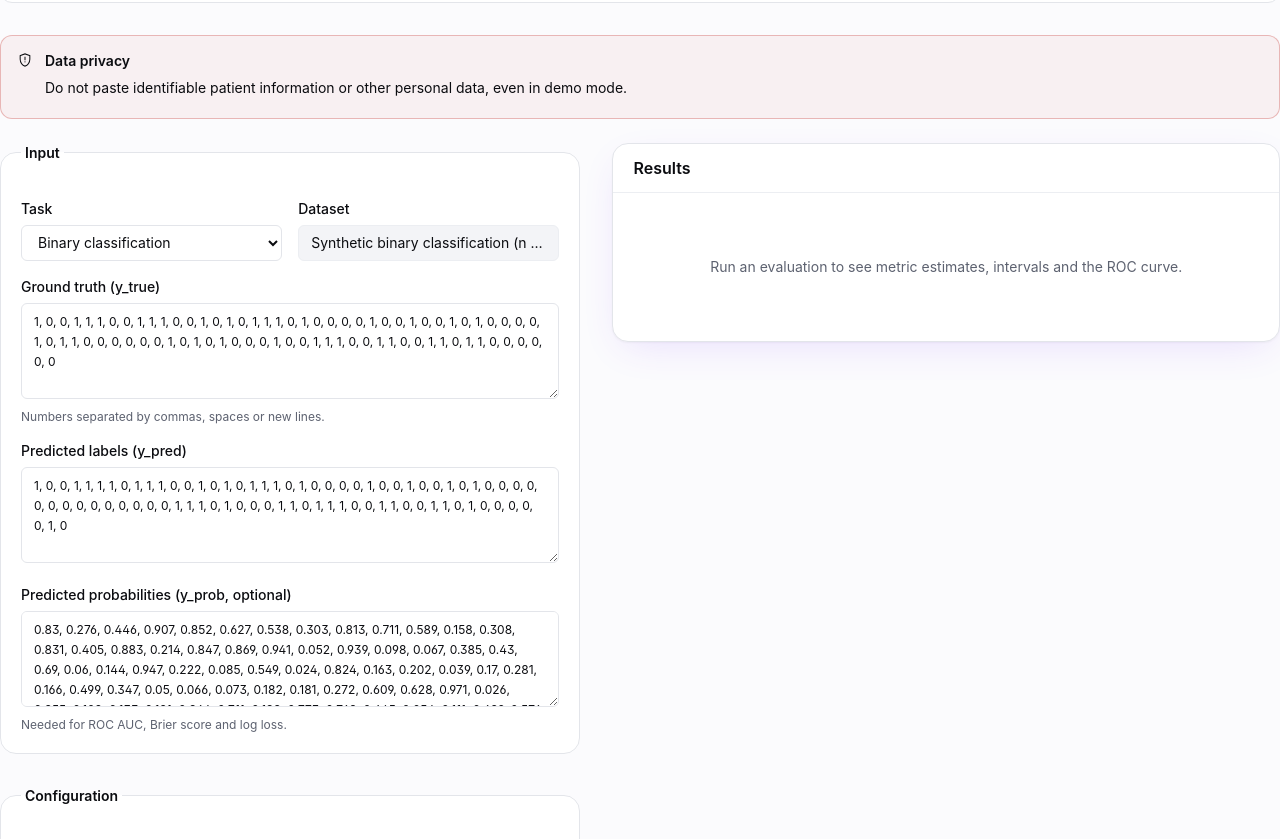
it: Playground › switches to regression metrics
Select "Regression" in the dropdown labelled "Task" at (152,242), box [21, 224, 282, 260]
(page scrolled)
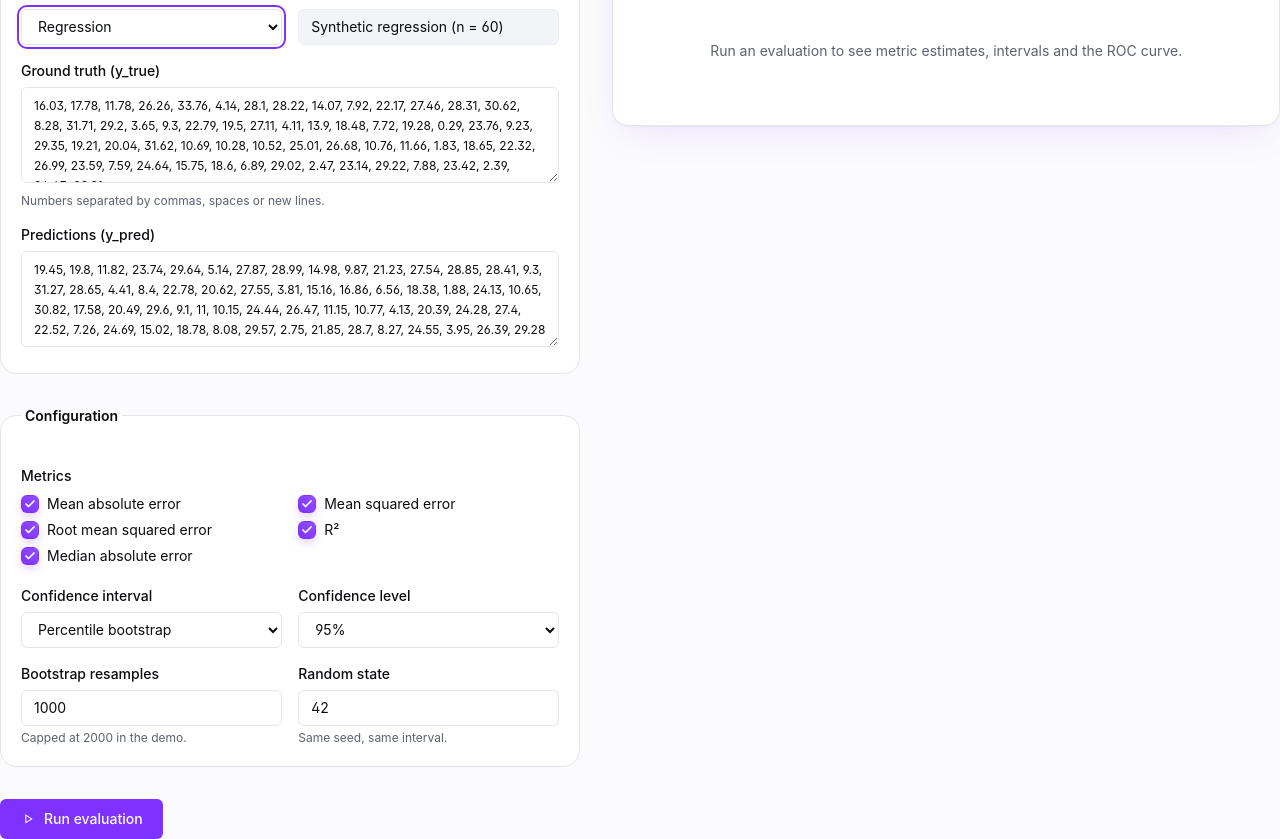
Check: the checkbox labelled "Mean absolute error" is checked, box [21, 494, 39, 512]
Check: the label labelled "Predicted probabilities (y_prob, optional)" is gone
Click the button "Run evaluation" at (81,818), box [0, 798, 163, 838]
(page scrolled)
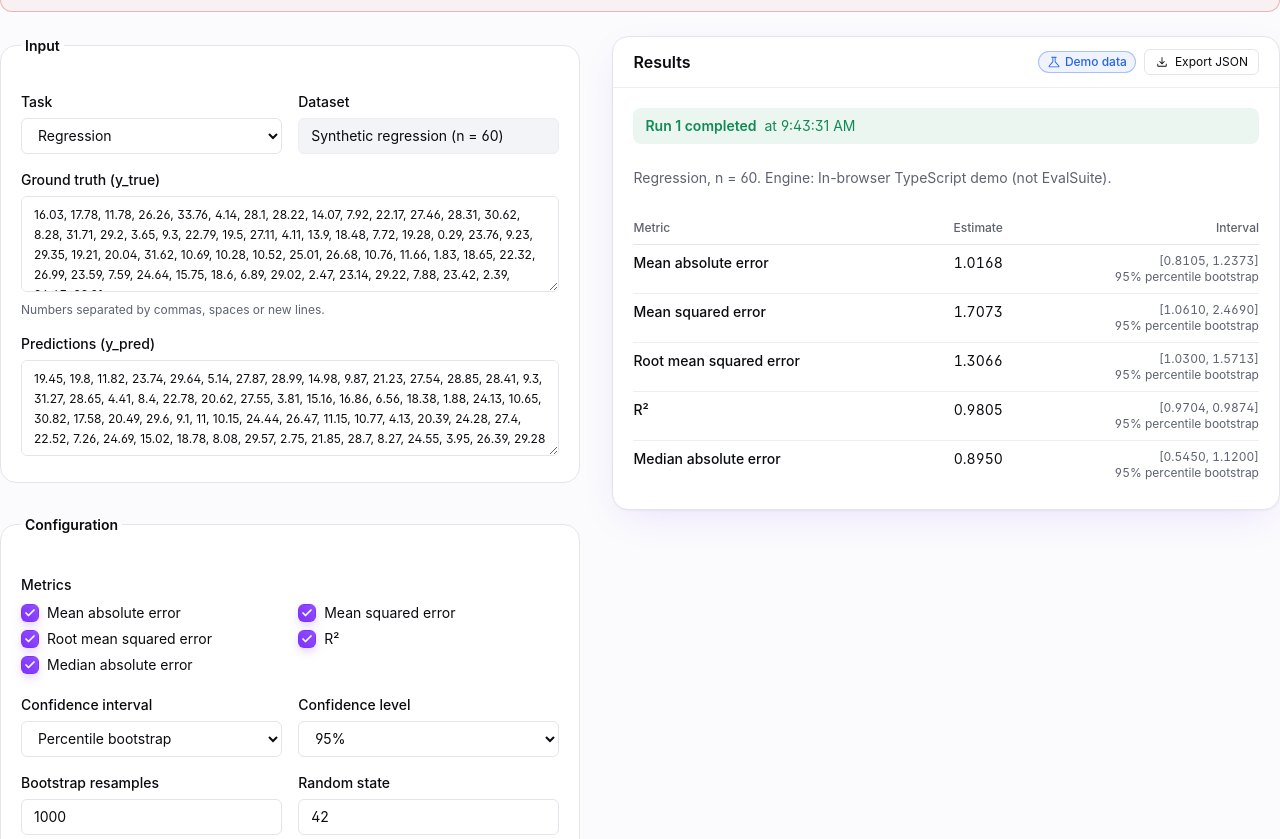
Check: the column heading "Root mean squared error" is shown, box [634, 342, 924, 391]
